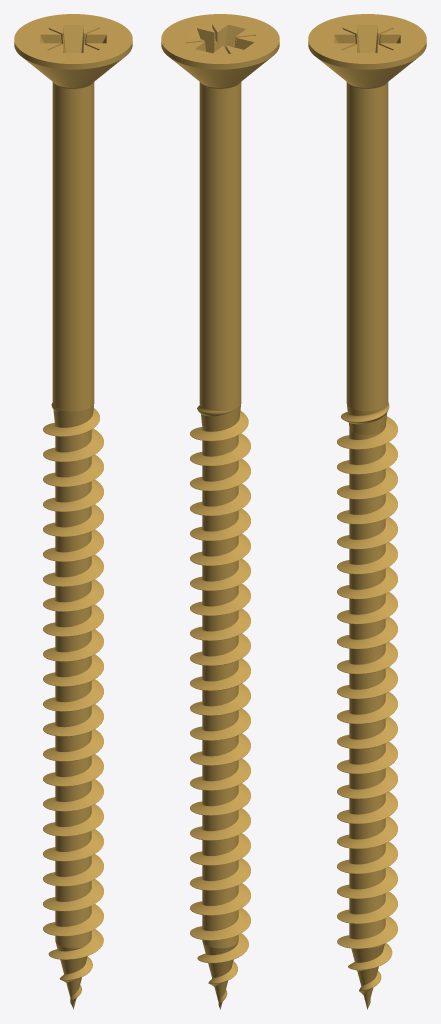
The model's file is model_full.glb.
The picture shows the model from 3 angles, left to right: view 1: azimuth 90°, elevation 25°; view 2: azimuth 150°, elevation 25°; view 3: azimuth 270°, elevation 25°; orthographic projection.
Parts seen in each view (by area): view 1: geometry_0; view 2: geometry_0; view 3: geometry_0.
Part boxes in pixels (left/top/right/bottom): geometry_0: left=14, top=14, right=132, bottom=1009; geometry_0: left=161, top=14, right=279, bottom=1009; geometry_0: left=308, top=14, right=426, bottom=1009.
Bounding box in the file's own units: 0.00775 × 0.07 × 0.00775.
